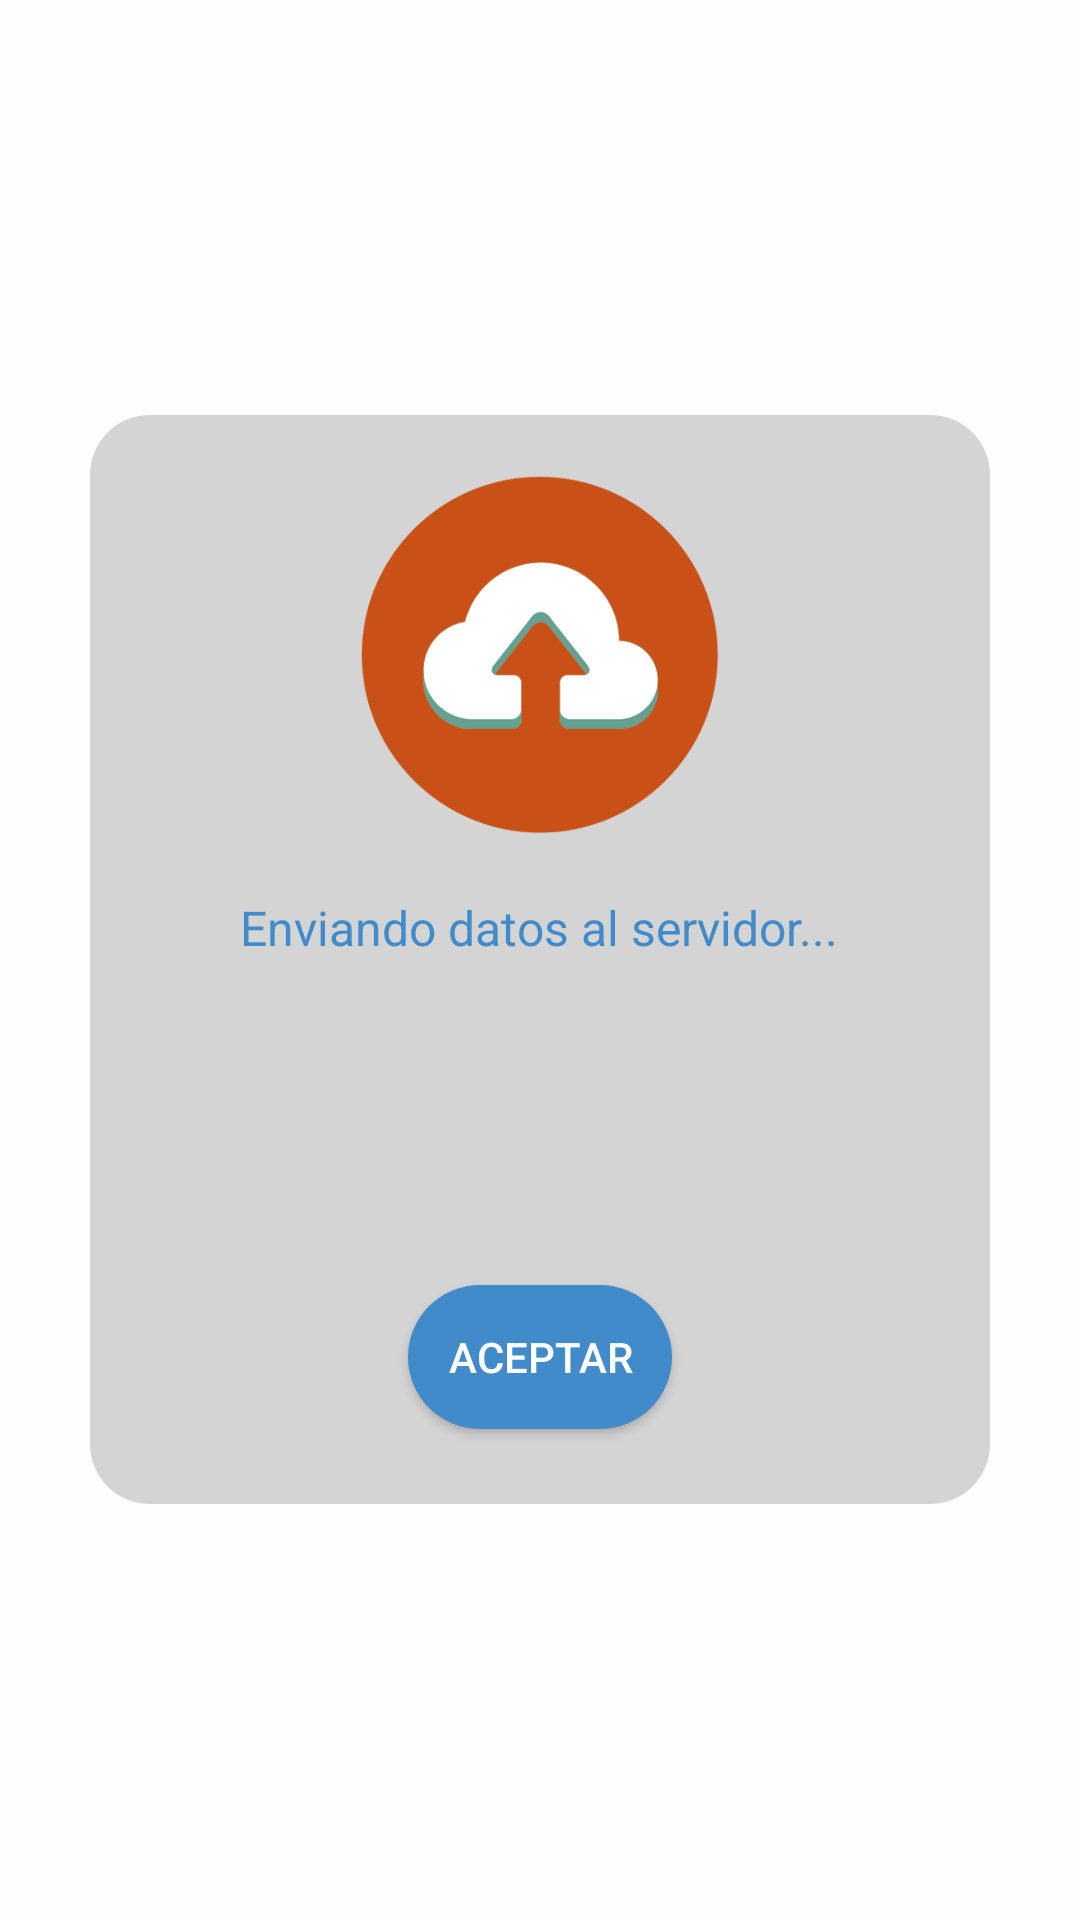

Screen size 1080 × 1920. Icon name, then its center in pixels as point (x, y):
upload: point (539, 654)
